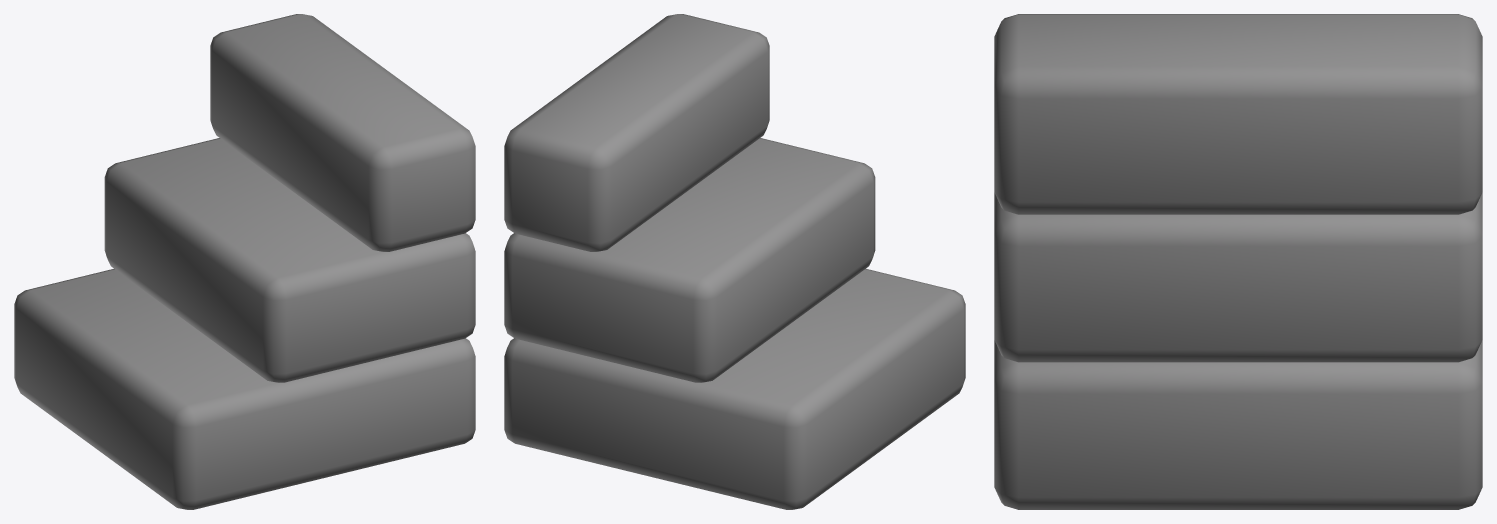
File: 3D_Tile_Dungeon_Stair_01.fbx
3 renders of one model, left to right at view 1: azimuth 30°, elevation 25°; view 2: azimuth 150°, elevation 25°; view 3: azimuth 270°, elevation 25°, orthographic. The views are drawn at different scales.
Visible parts, largest first — view 1: 3D_Tile_Dungeon_Stair_01; view 2: 3D_Tile_Dungeon_Stair_01; view 3: 3D_Tile_Dungeon_Stair_01.
Boxes of the visible parts, <box> form: 3D_Tile_Dungeon_Stair_01: <box>14,14,475,509</box>; 3D_Tile_Dungeon_Stair_01: <box>504,14,965,509</box>; 3D_Tile_Dungeon_Stair_01: <box>994,14,1482,509</box>.
Size of the model in its own units: 200 by 200 by 200.
